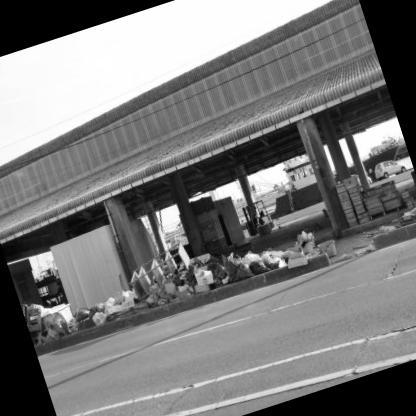car: (373, 154, 410, 185)
